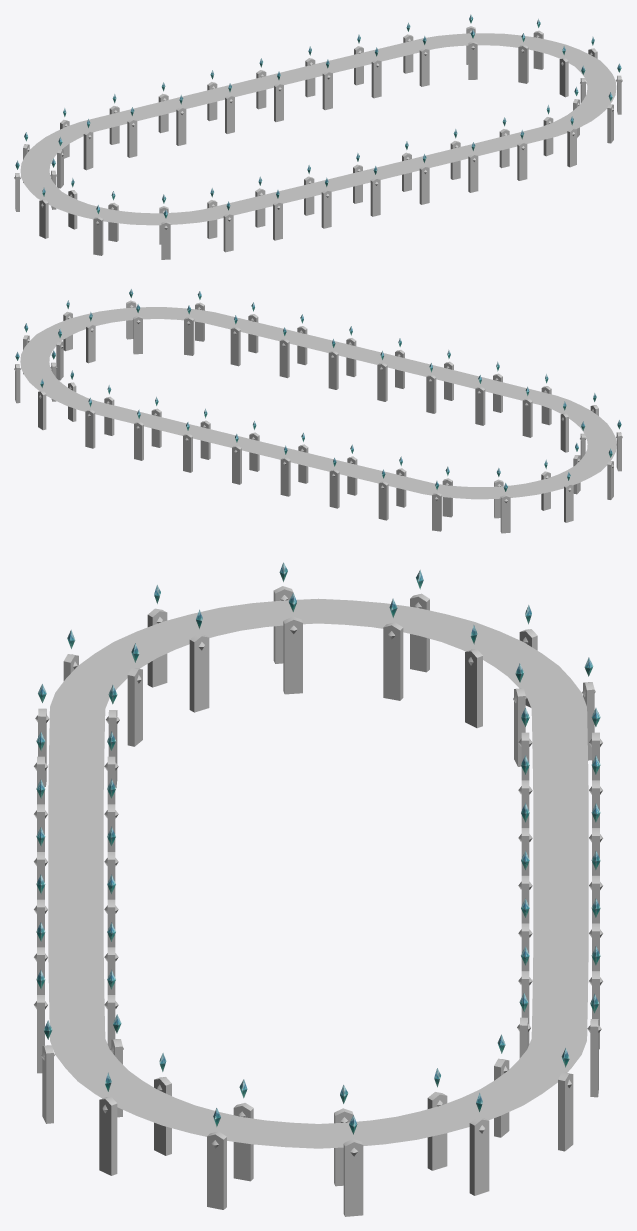
Rendered from raytrack.fbx.
The picture shows the model from 3 angles, top to bottom: view 1: azimuth 30°, elevation 25°; view 2: azimuth 150°, elevation 25°; view 3: azimuth 270°, elevation 25°; orthographic projection. The views are drawn at different scales.
Parts seen in each view (by area): view 1: Racing_Track, Pillars, Crystals; view 2: Racing_Track, Pillars, Crystals; view 3: Racing_Track, Pillars, Crystals.
Boxes of the visible parts, x1,y1,x2,y2 form: Racing_Track: (20, 33, 616, 225); Pillars: (14, 26, 622, 259); Crystals: (15, 14, 621, 218); Racing_Track: (20, 307, 616, 499); Pillars: (14, 300, 622, 533); Crystals: (15, 289, 621, 491); Racing_Track: (48, 598, 588, 1148); Pillars: (34, 586, 602, 1216); Crystals: (36, 562, 600, 1134).
Bounding box in the file's own units: 310 × 25.8 × 134.
